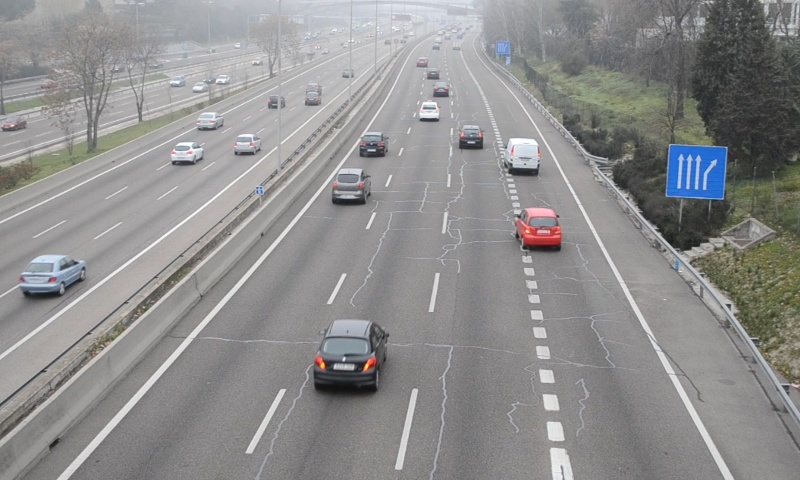car: (313, 320, 388, 388), (514, 207, 562, 246), (332, 168, 369, 201), (358, 132, 389, 158), (458, 125, 484, 149), (418, 98, 441, 120), (433, 80, 450, 95)
van: (504, 138, 541, 175)
